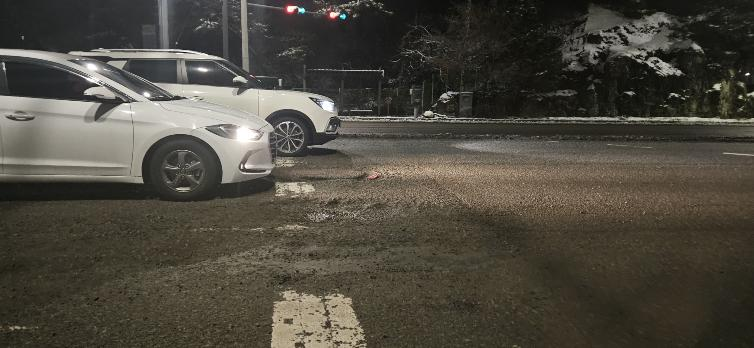pothole: (291, 169, 413, 232)
